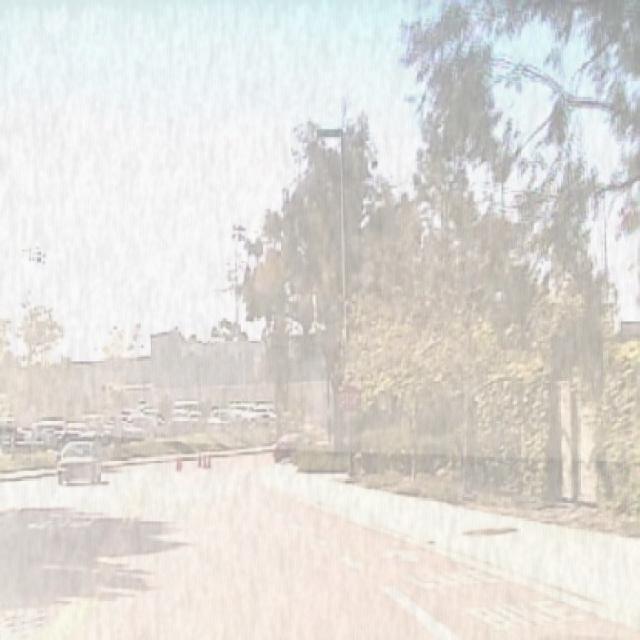stop: (338, 382, 360, 412)
